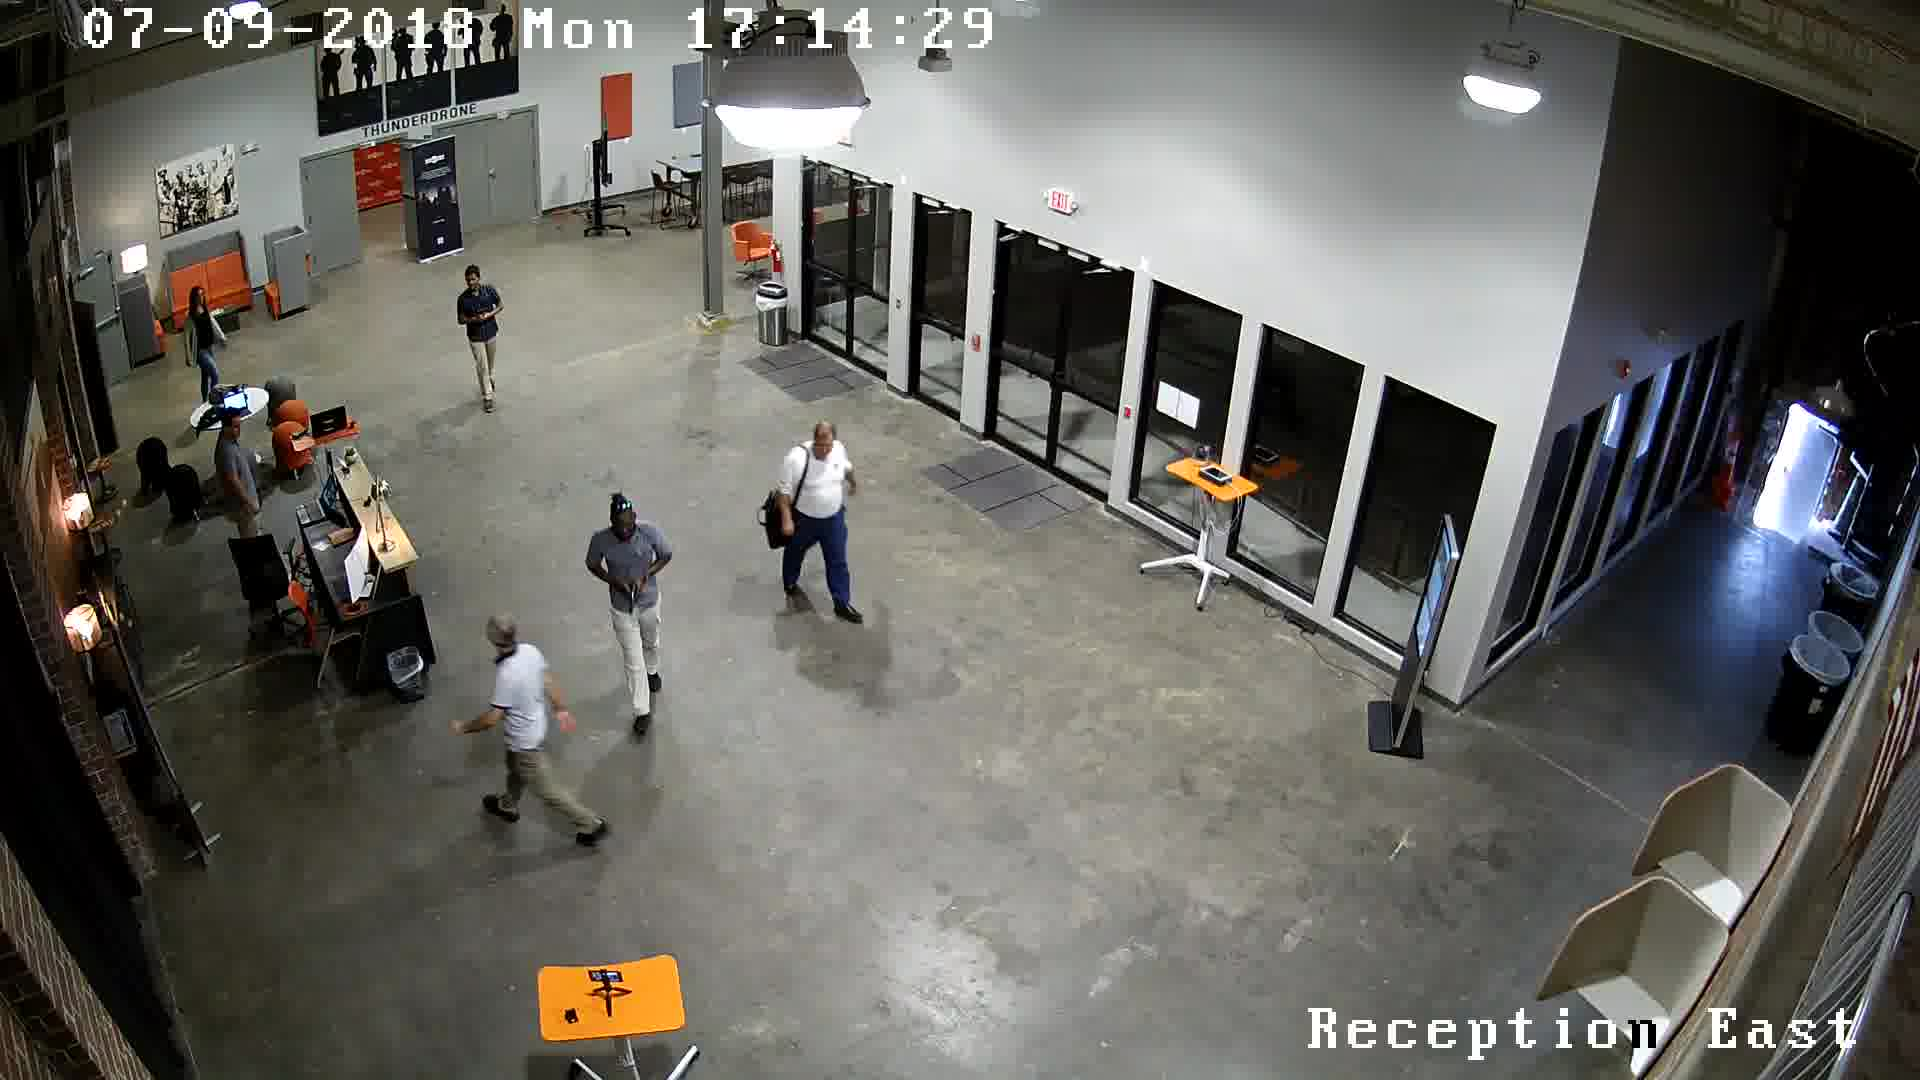pistol: (618, 571, 651, 618)
